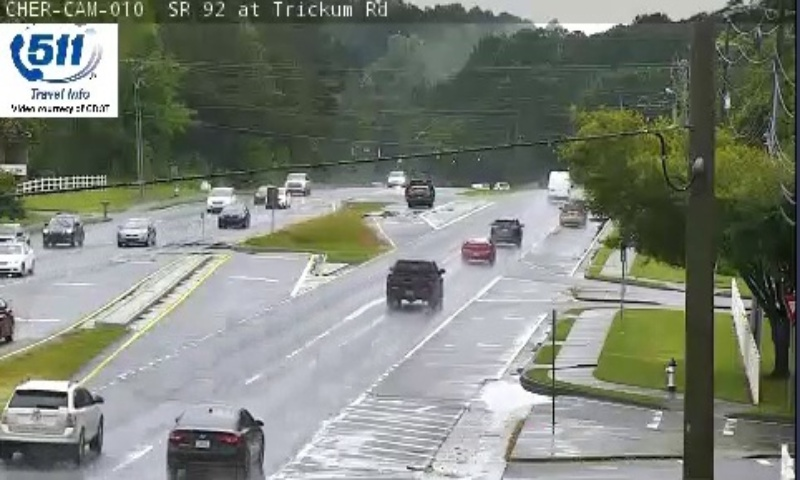car: (1, 378, 102, 451), (165, 402, 265, 470), (386, 258, 443, 304), (461, 238, 496, 265), (491, 220, 521, 245)
